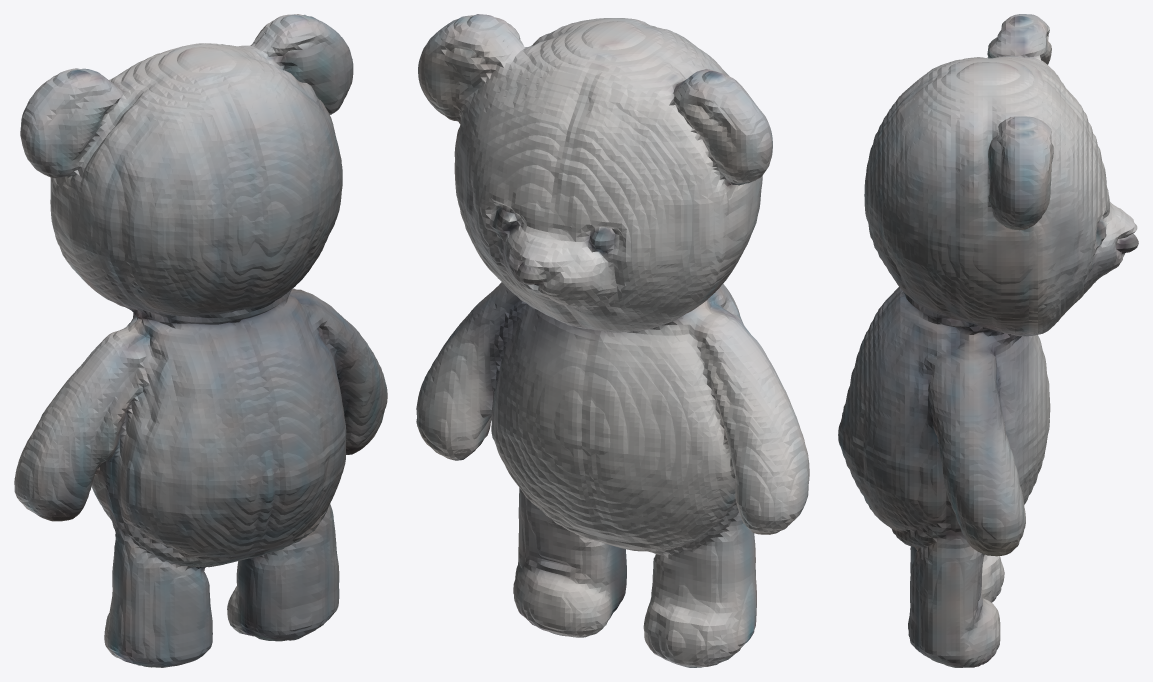
3 renders of one model, left to right at view 1: azimuth 30°, elevation 25°; view 2: azimuth 150°, elevation 25°; view 3: azimuth 270°, elevation 25°, orthographic. The views are drawn at different scales.
Visible parts, largest first — view 1: world; view 2: world; view 3: world.
Boxes of the visible parts, x1,y1,x2,y2 form: world: (14,14,387,667); world: (416,14,809,667); world: (838,14,1138,667).
Bounding box in the file's own units: 0.5965 × 0.9222 × 0.4472.
